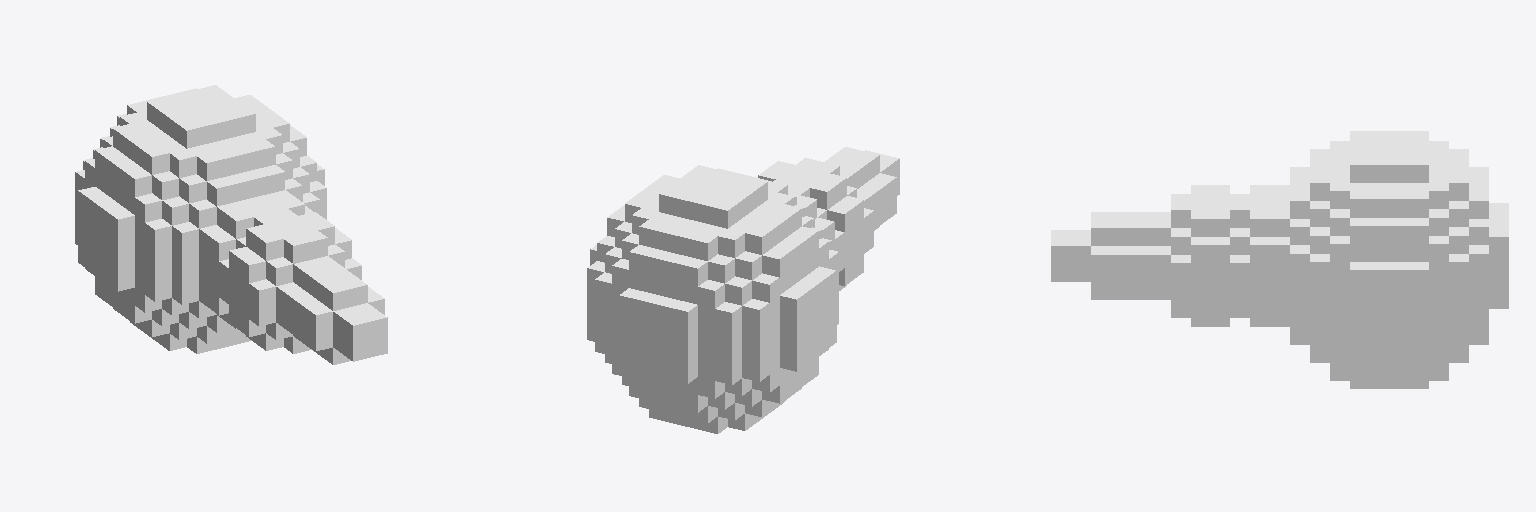
Rendered from towerTop.obj.
The picture shows the model from 3 angles: view 1: azimuth 30°, elevation 25°; view 2: azimuth 150°, elevation 25°; view 3: azimuth 270°, elevation 25°; orthographic projection.
Visible parts, largest first — view 1: object 1; view 2: object 1; view 3: object 1.
Part boxes in pixels (bbox=[...]): object 1: bbox=[75, 85, 387, 364]; object 1: bbox=[587, 147, 899, 433]; object 1: bbox=[1051, 131, 1508, 388].
Bounding box in the file's own units: 6 × 6 × 11.5.